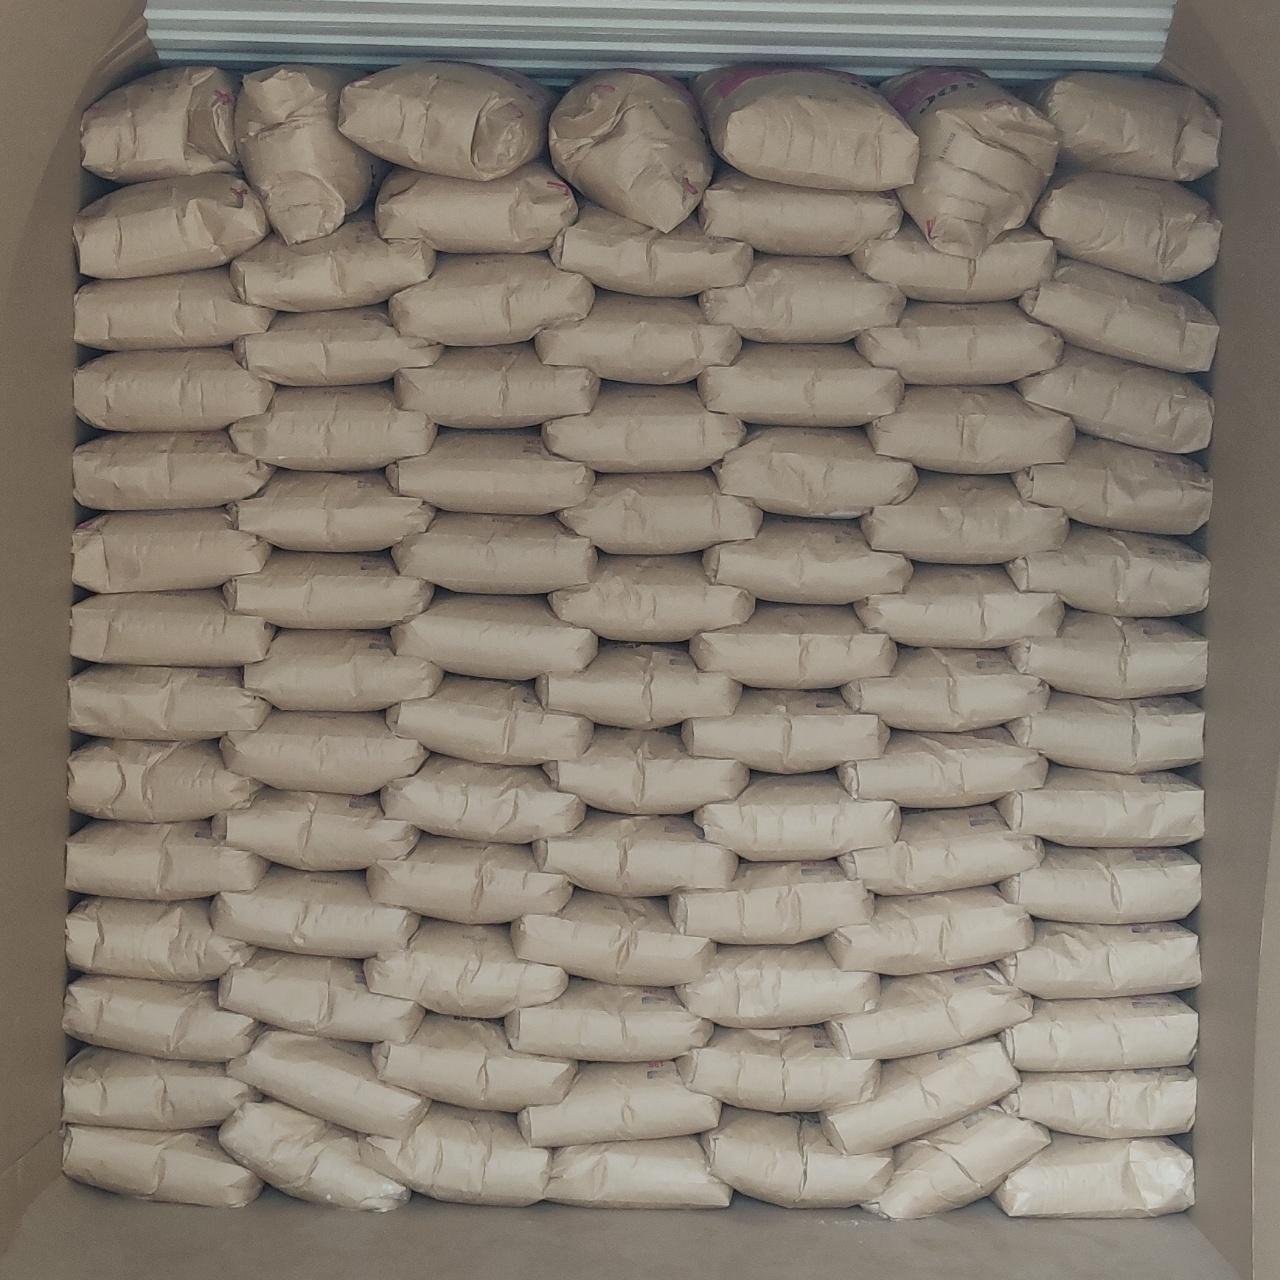sack: (892, 70, 1054, 254), (694, 68, 916, 190), (234, 65, 381, 243), (552, 72, 712, 228), (340, 62, 550, 176), (228, 1028, 430, 1136), (1018, 260, 1216, 370), (822, 1038, 1016, 1150), (1030, 72, 1220, 180), (1016, 346, 1212, 450), (1032, 170, 1220, 278), (864, 1108, 1048, 1218), (230, 212, 436, 310), (76, 174, 268, 276), (222, 1102, 406, 1208), (374, 1014, 574, 1110), (1012, 436, 1210, 532), (366, 920, 566, 1014), (362, 1104, 550, 1204), (828, 966, 1030, 1058), (212, 866, 418, 956), (704, 1108, 892, 1206), (536, 292, 740, 382), (512, 890, 710, 982), (84, 64, 238, 182), (378, 160, 574, 252), (550, 204, 750, 294), (862, 472, 1066, 560), (1008, 524, 1206, 614), (390, 254, 592, 342), (714, 428, 916, 516), (388, 676, 590, 764), (840, 806, 1042, 894), (220, 950, 422, 1038), (704, 516, 910, 602), (698, 168, 902, 254), (392, 592, 596, 678), (544, 382, 742, 470), (828, 888, 1030, 974), (368, 836, 570, 922), (696, 772, 898, 858), (230, 384, 436, 468), (868, 386, 1074, 470), (678, 940, 878, 1026), (854, 564, 1062, 646), (544, 728, 746, 812), (550, 554, 752, 638), (702, 256, 902, 340), (382, 756, 582, 840), (534, 810, 734, 894), (678, 1026, 878, 1110), (536, 644, 740, 726), (506, 978, 710, 1060), (692, 604, 894, 686), (396, 344, 598, 426), (684, 690, 886, 772), (856, 302, 1062, 382), (212, 788, 418, 868), (1010, 610, 1206, 694), (388, 430, 592, 510), (222, 710, 426, 790), (76, 348, 274, 430), (838, 728, 1046, 806), (1000, 766, 1202, 846), (74, 508, 270, 590), (64, 1124, 260, 1206), (224, 550, 430, 628), (670, 862, 870, 942), (64, 976, 254, 1060), (558, 472, 762, 550), (228, 472, 432, 550), (842, 648, 1046, 726), (74, 268, 272, 348), (520, 1062, 718, 1142), (394, 512, 596, 590), (700, 344, 902, 422), (1006, 692, 1202, 772), (236, 306, 442, 382), (854, 222, 1054, 300), (246, 630, 440, 710), (996, 1134, 1190, 1214), (1000, 844, 1198, 922), (70, 740, 260, 820), (998, 920, 1198, 996), (68, 898, 252, 980), (68, 820, 266, 896), (64, 1048, 256, 1126), (74, 432, 270, 508), (72, 590, 272, 662), (1002, 996, 1196, 1070), (72, 666, 270, 738), (1002, 1068, 1194, 1136), (546, 1138, 730, 1206)
